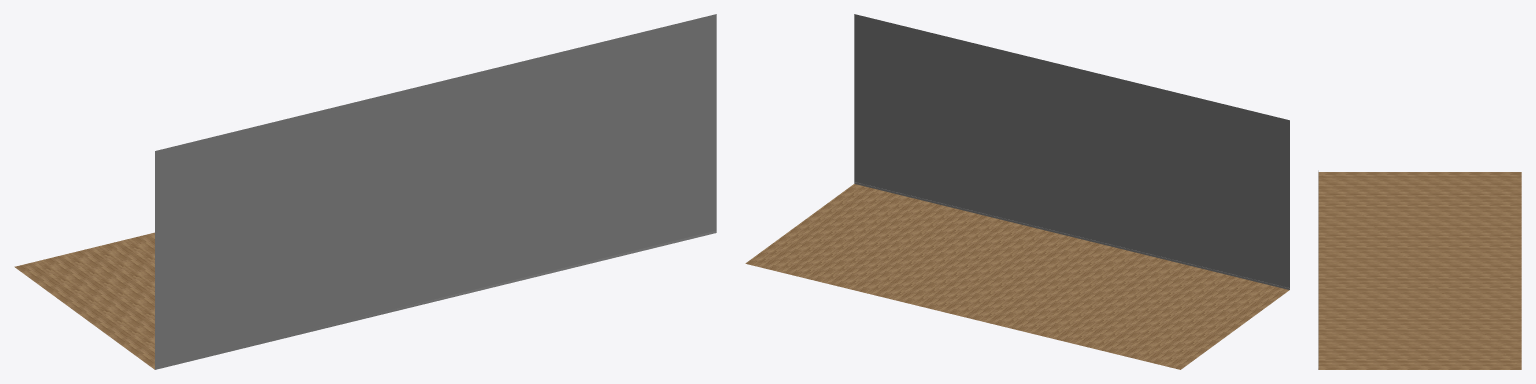
The model's file is floor2.glb.
The picture shows the model from 3 angles, left to right: view 1: azimuth 30°, elevation 25°; view 2: azimuth 150°, elevation 25°; view 3: azimuth 270°, elevation 25°; orthographic projection. The views are drawn at different scales.
Parts seen in each view (by area): view 1: Plane.001; view 2: Plane.001; view 3: Plane.001.
Boxes of the visible parts, box(x1,y1,x2,y2) form: Plane.001: box(14, 14, 716, 369); Plane.001: box(745, 14, 1289, 369); Plane.001: box(1318, 170, 1521, 369).
Bounding box in the file's own units: 19.3 × 7.19 × 8.38.
3 materials, 1 textured.
